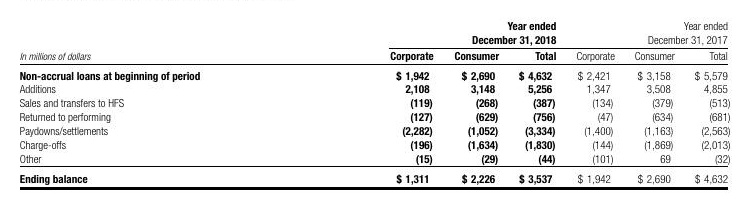table: (0, 0, 748, 205)
